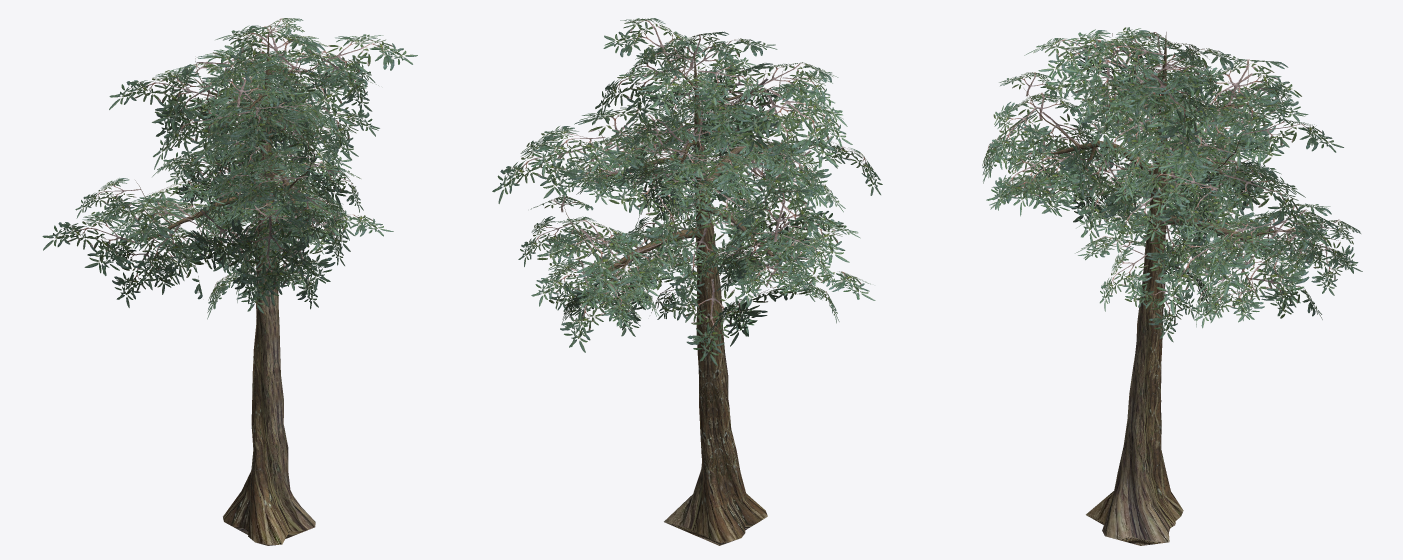
File: treeaaa.fbx
3 renders of one model, left to right at view 1: azimuth 30°, elevation 25°; view 2: azimuth 150°, elevation 25°; view 3: azimuth 270°, elevation 25°, orthographic. The views are drawn at different scales.
Parts seen in each view (by area): view 1: TreeMesh; view 2: TreeMesh; view 3: TreeMesh.
Boxes of the visible parts, x1,y1,x2,y2 form: TreeMesh: (42, 18, 417, 545); TreeMesh: (492, 18, 882, 545); TreeMesh: (982, 27, 1362, 545).
Bounding box in the file's own units: 1304 × 1572 × 1207.
Materials: 2 (2 with a texture image).
